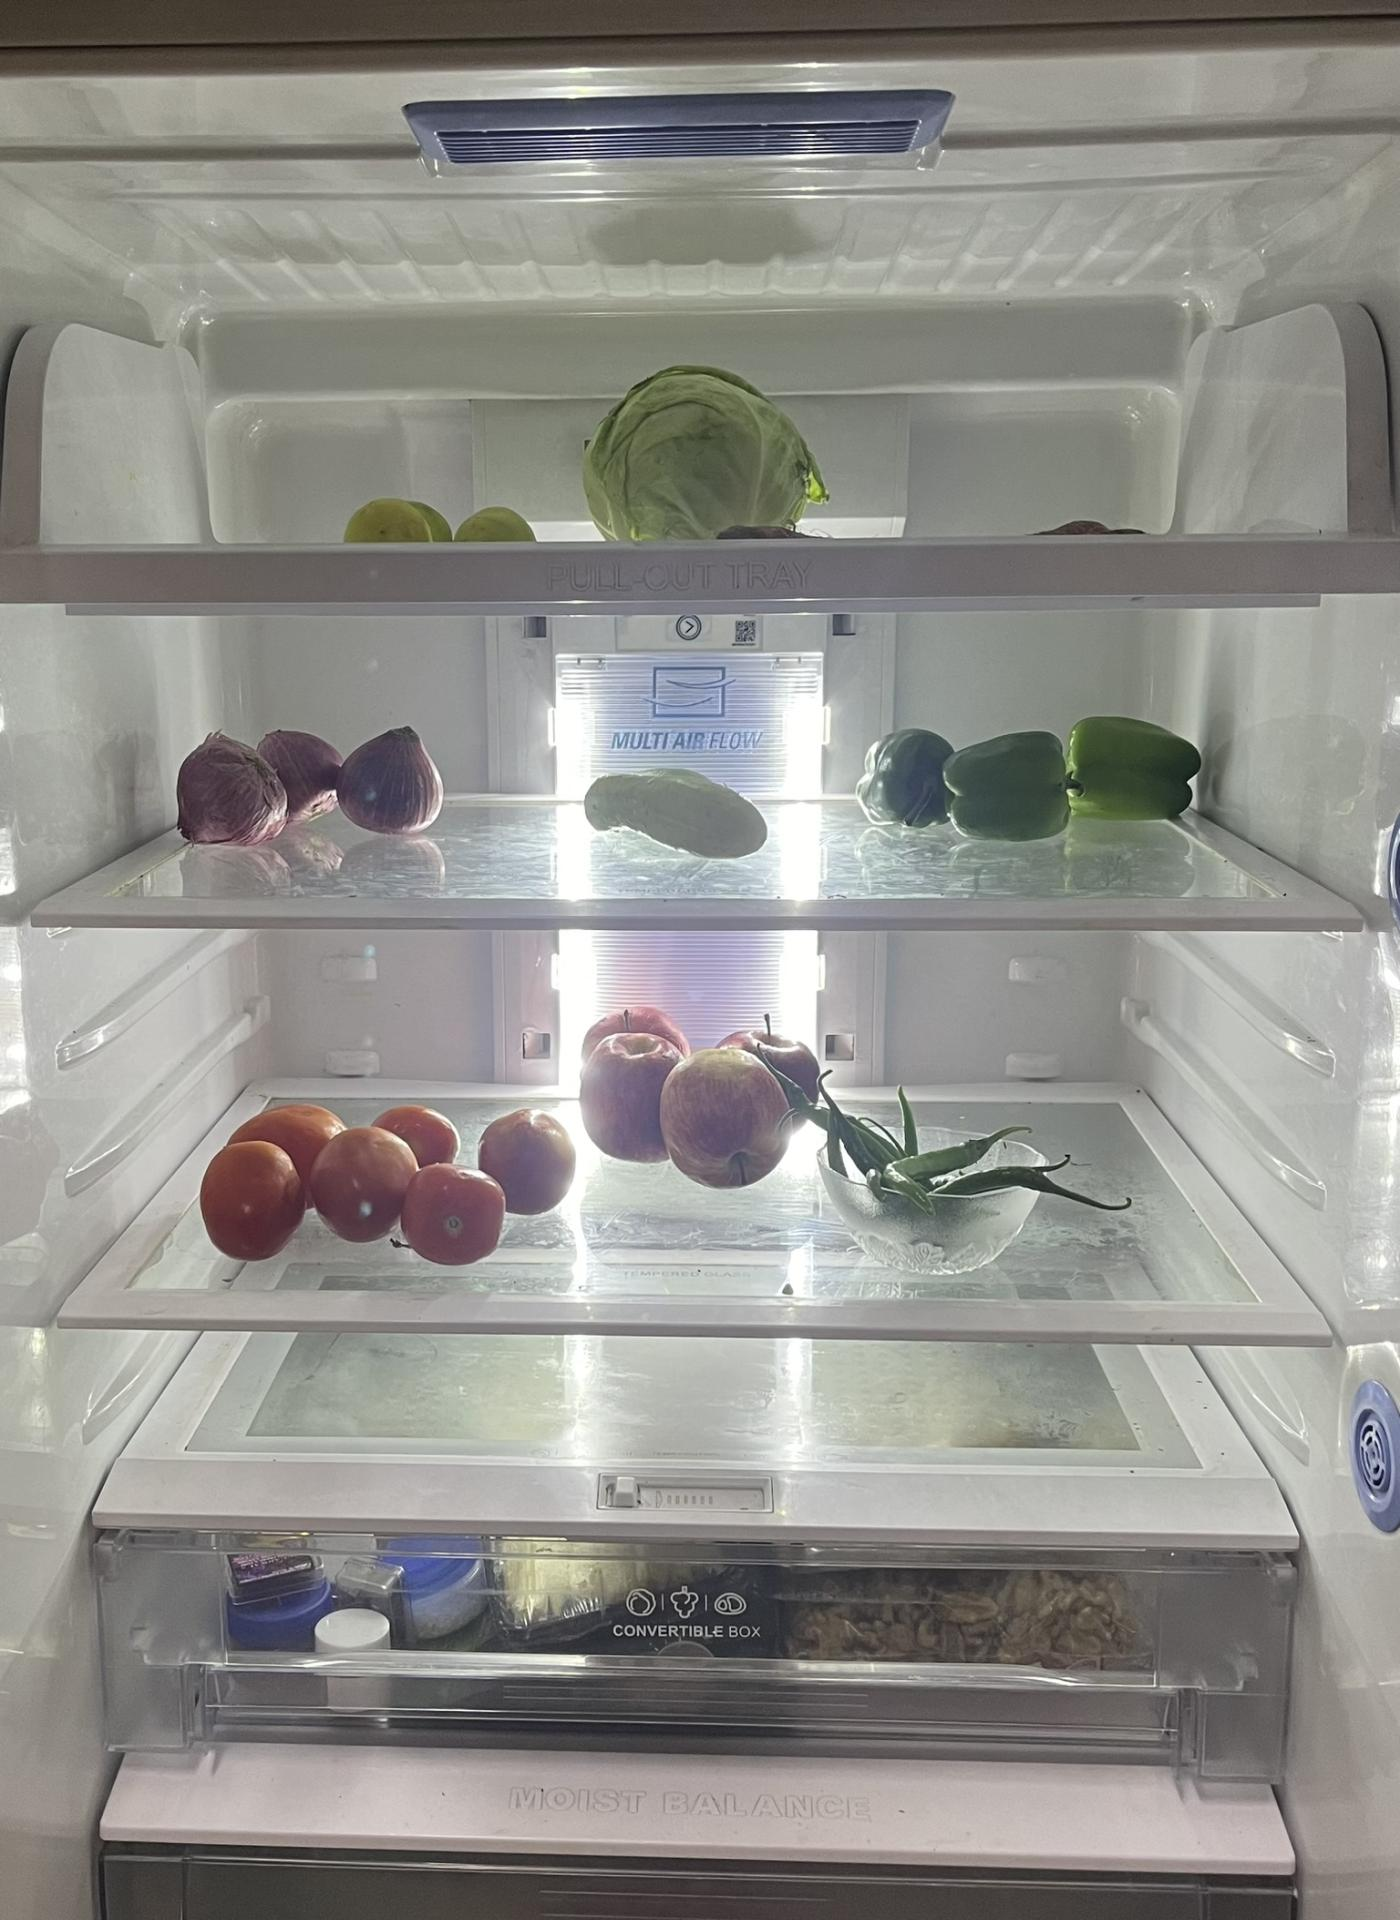apple: (589, 1000, 838, 1200)
cabbage: (573, 358, 827, 537)
capsicum: (860, 721, 1220, 833)
chillies: (802, 1084, 1142, 1233)
cucumber: (589, 769, 778, 860)
lemon: (343, 493, 577, 534)
onion: (173, 717, 446, 860)
tomato: (195, 1106, 578, 1263)
